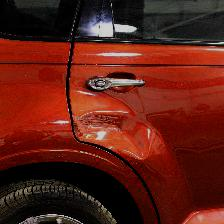door_dent: (64, 96, 175, 171)
